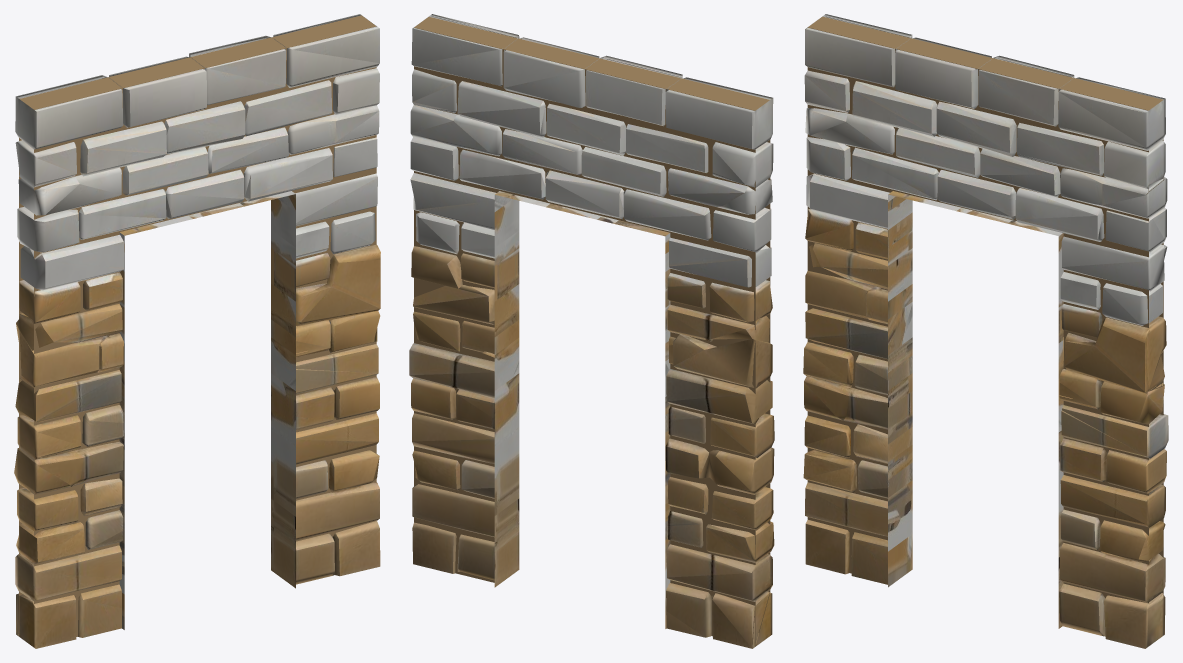
The model's file is wall-plaster-door.glb.
The picture shows the model from 3 angles, left to right: view 1: azimuth 30°, elevation 25°; view 2: azimuth 150°, elevation 25°; view 3: azimuth 330°, elevation 25°; orthographic projection.
Size of the model in its own units: 2 by 3 by 0.25.
1 material, 1 textured.
